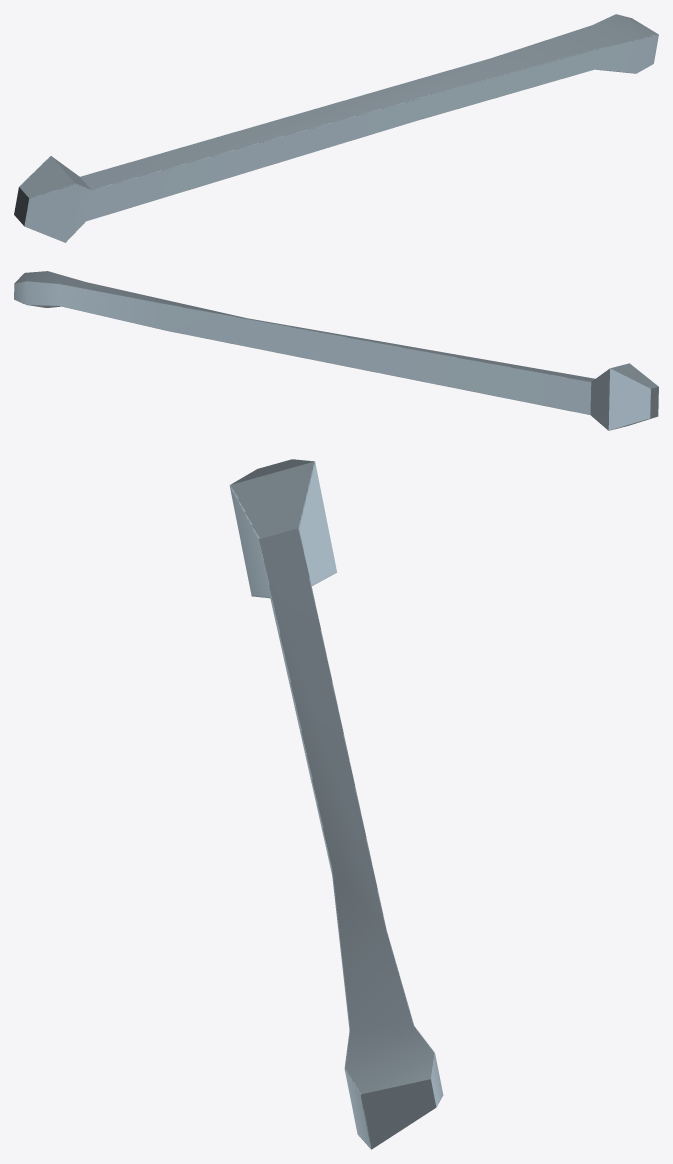
Rendered from Bone4.fbx.
The picture shows the model from 3 angles, top to bottom: view 1: azimuth 30°, elevation 25°; view 2: azimuth 150°, elevation 25°; view 3: azimuth 270°, elevation 25°; orthographic projection. The views are drawn at different scales.
Visible parts, largest first — view 1: Bone004; view 2: Bone004; view 3: Bone004.
Boxes of the visible parts, left/top/right/bottom form: Bone004: left=14, top=14, right=658, bottom=242; Bone004: left=14, top=271, right=658, bottom=430; Bone004: left=229, top=459, right=443, bottom=1149.
Bounding box in the file's own units: 15.71 × 2.38 × 1.69.
